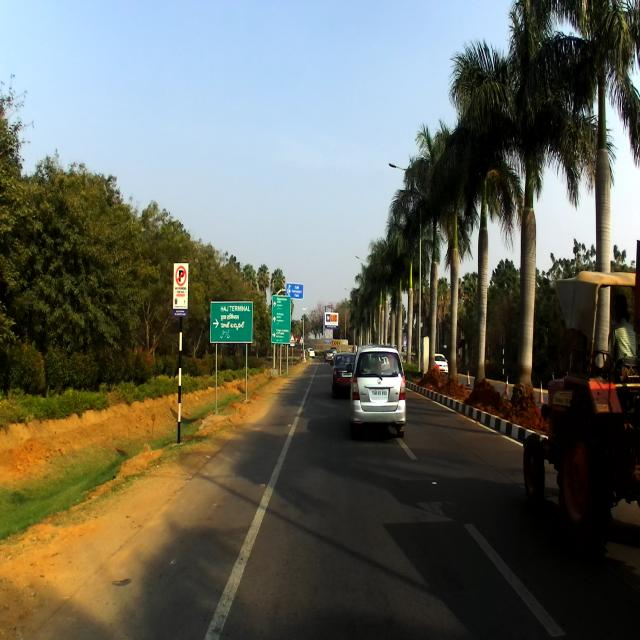barrier ahead at: (162, 251, 198, 460), (205, 299, 259, 422), (267, 293, 294, 387)
car ahead at: (342, 344, 410, 442)
truck ahead at: (518, 258, 640, 546)
